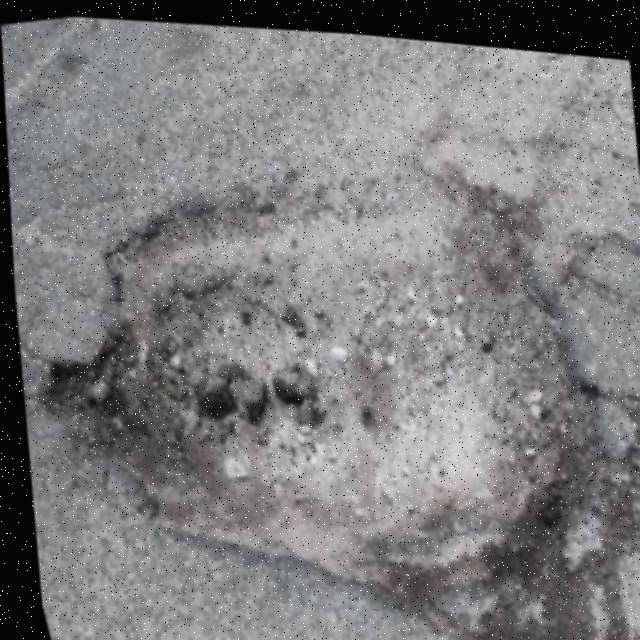Pothole: (4, 90, 640, 640)
